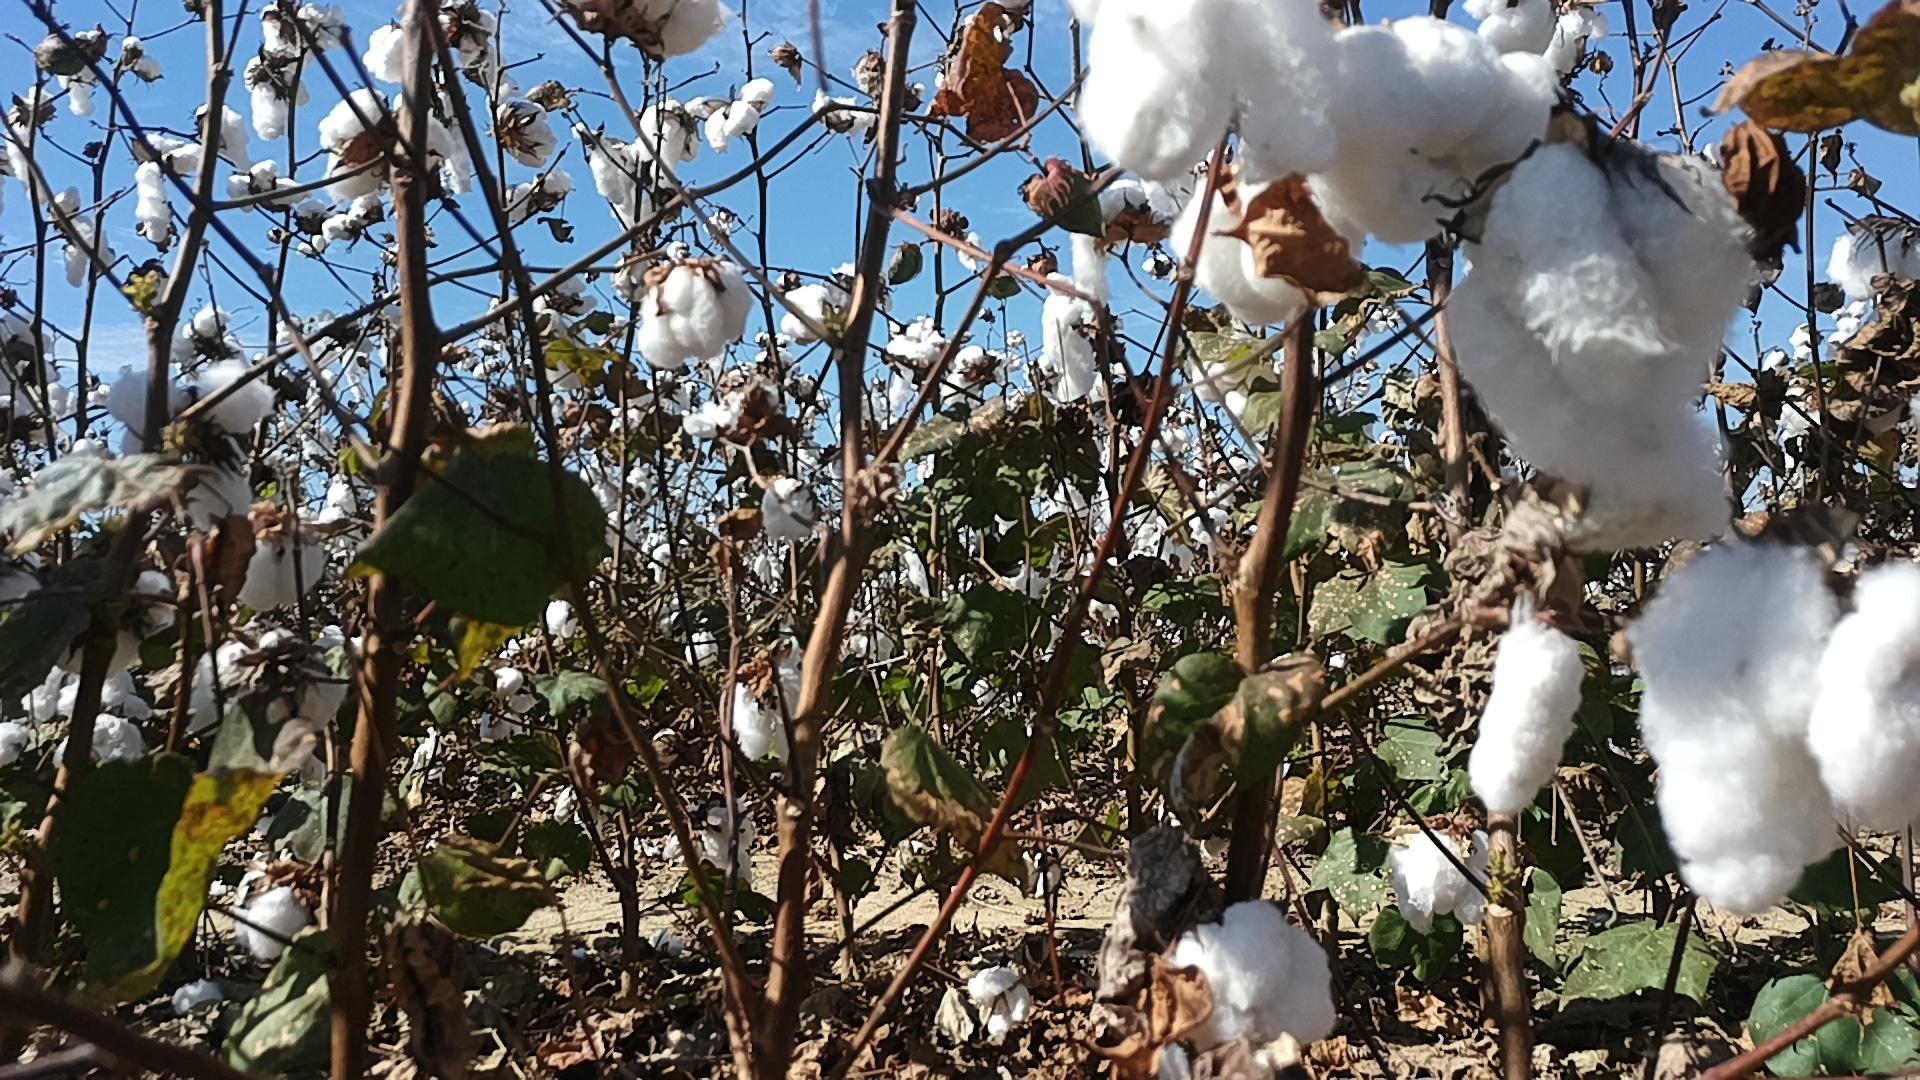cotton_ready: (1444, 140, 1758, 546), (1635, 546, 1920, 916), (1302, 17, 1545, 245), (1071, 0, 1329, 186), (1035, 178, 1178, 407), (1172, 169, 1364, 315), (108, 365, 278, 524), (1170, 899, 1341, 1055), (1468, 625, 1585, 815), (186, 625, 345, 736), (316, 90, 451, 206), (38, 564, 173, 680), (0, 679, 153, 775), (1386, 819, 1495, 935), (224, 512, 331, 621), (640, 265, 754, 367), (236, 839, 330, 963), (597, 105, 694, 223), (725, 633, 806, 766), (365, 4, 500, 80), (778, 264, 886, 338), (133, 133, 204, 245), (601, 0, 731, 58), (682, 75, 778, 153), (948, 960, 1035, 1043), (1825, 225, 1920, 291), (245, 53, 311, 136), (498, 99, 558, 170), (268, 5, 340, 58)
